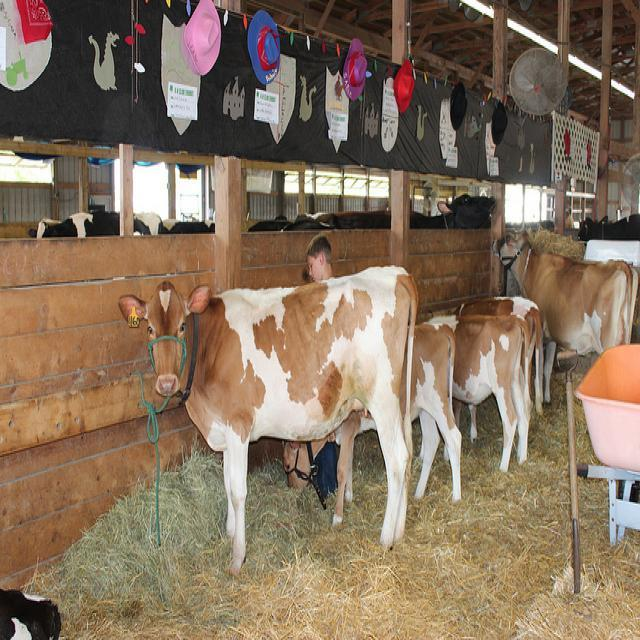cow: (114, 265, 418, 571), (284, 322, 460, 528), (490, 226, 639, 402), (415, 312, 527, 468), (422, 297, 543, 424), (331, 192, 495, 228), (27, 211, 161, 240), (1, 588, 63, 639), (575, 211, 639, 240), (246, 217, 329, 231)
